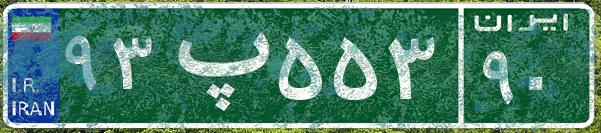0: (525, 38, 570, 115)
3: (385, 28, 445, 110), (110, 28, 158, 105)
5: (273, 28, 330, 110), (330, 28, 385, 110)
9: (57, 26, 110, 107), (475, 38, 525, 113)
پ: (158, 15, 273, 115)
